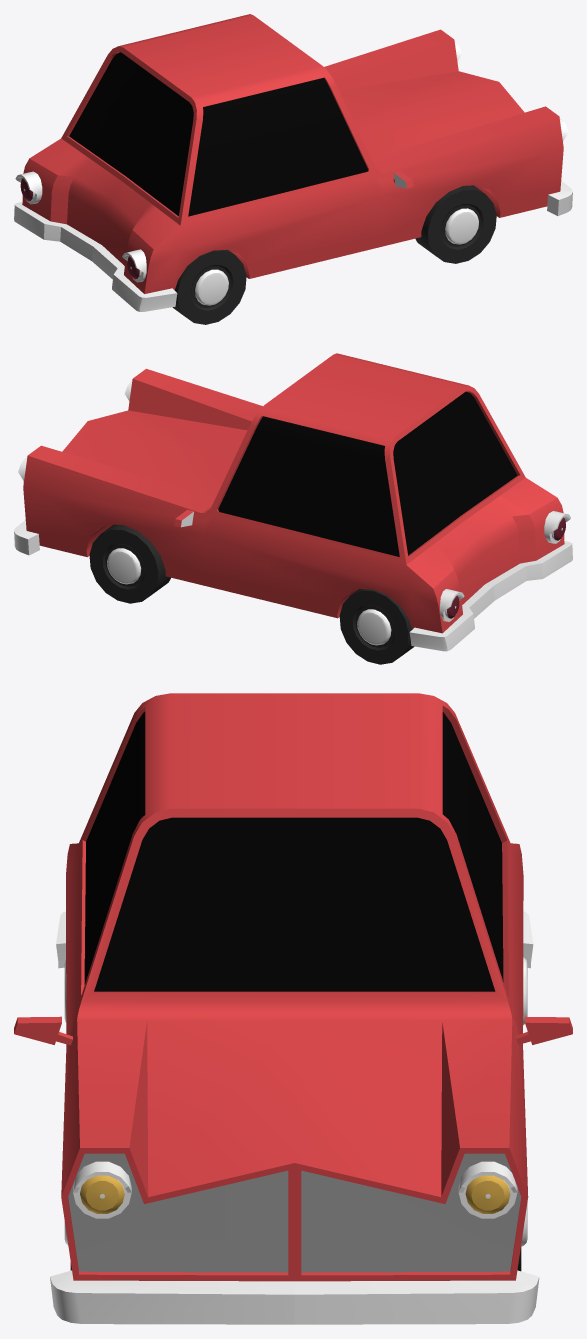
Rendered from BackgroundCarProps.fbx.
3 views of the same model, one above another, from view 1: azimuth 30°, elevation 25°; view 2: azimuth 150°, elevation 25°; view 3: azimuth 270°, elevation 25° (orthographic). The views are drawn at different scales.
Visible parts, largest first — view 1: Car Body, Wheel3, Wheel4, TaillightLeft.001, TailLightRight.001; view 2: Car Body, Wheel1, Wheel2, TailLightRight.001, TaillightLeft.001; view 3: Car Body, HeadlightLeft, HeadlightRight, Mirrors.001, Mirrors.
Boxes of the visible parts, x1=… form: Car Body: x1=14, y1=14, x2=572, y2=311; Wheel3: x1=415, y1=185, x2=496, y2=263; Wheel4: x1=172, y1=249, x2=246, y2=324; TaillightLeft.001: x1=15, y1=171, x2=42, y2=204; TailLightRight.001: x1=122, y1=249, x2=146, y2=282; Car Body: x1=14, y1=353, x2=572, y2=651; Wheel1: x1=89, y1=524, x2=170, y2=603; Wheel2: x1=339, y1=589, x2=414, y2=664; TailLightRight.001: x1=544, y1=511, x2=570, y2=543; TaillightLeft.001: x1=440, y1=589, x2=464, y2=621; Car Body: x1=50, y1=693, x2=539, y2=1324; HeadlightLeft: x1=73, y1=1161, x2=131, y2=1218; HeadlightRight: x1=458, y1=1161, x2=517, y2=1218; Mirrors.001: x1=14, y1=1016, x2=72, y2=1045; Mirrors: x1=516, y1=1016, x2=572, y2=1044.
Size of the model in its own units: 418 by 255 by 185.
